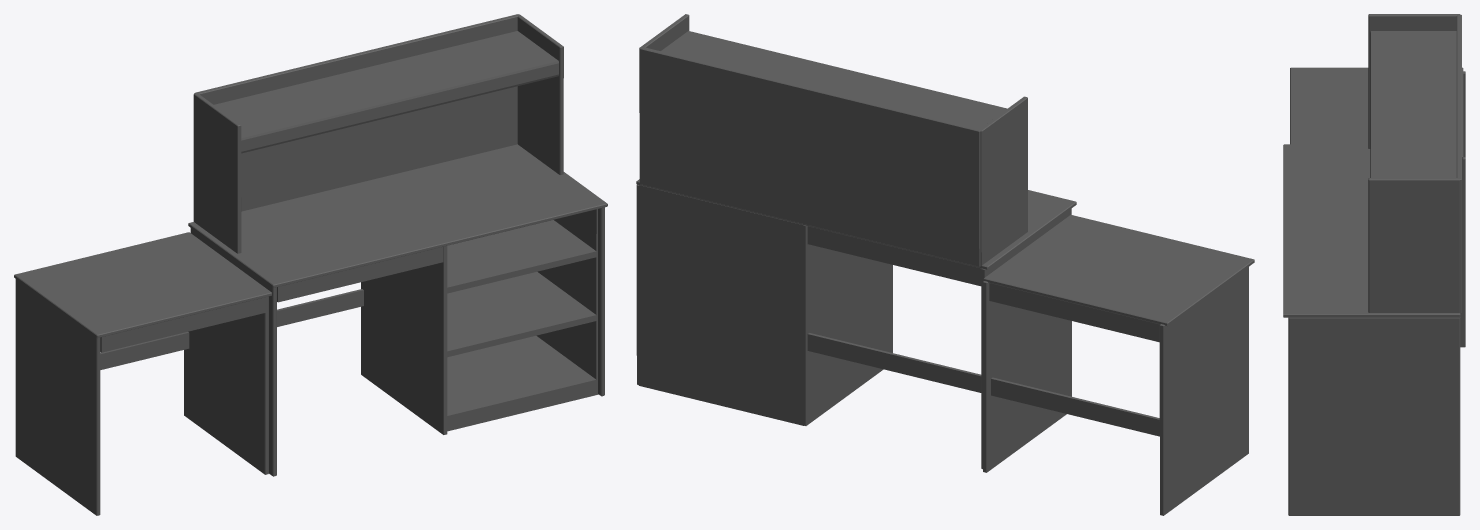
File: Desk_320_1_1_FP320Cube.1829.obj
3 views of the same model, side by side, from view 1: azimuth 30°, elevation 25°; view 2: azimuth 150°, elevation 25°; view 3: azimuth 270°, elevation 25° (orthographic). The views are drawn at different scales.
Size of the model in its own units: 1.82 by 1.11 by 0.5457.
